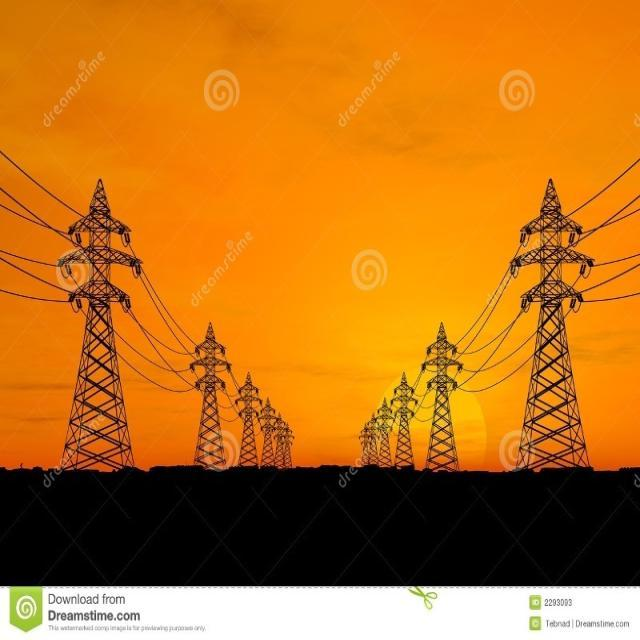non-critical vegetation: (44, 170, 148, 468), (502, 168, 598, 470), (175, 310, 235, 466), (416, 316, 467, 466), (388, 369, 419, 467), (231, 368, 260, 464), (374, 394, 396, 466), (256, 390, 276, 462)
